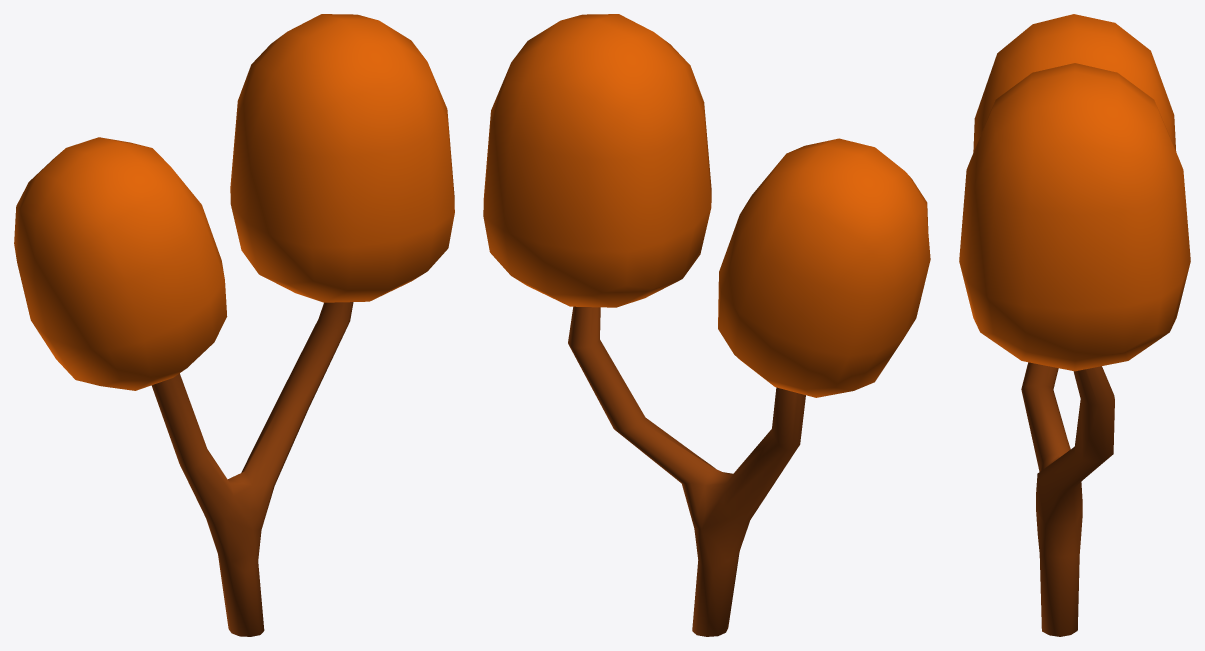
File: Tree_27_Fall.fbx
3 views of the same model, side by side, from view 1: azimuth 30°, elevation 25°; view 2: azimuth 150°, elevation 25°; view 3: azimuth 270°, elevation 25° (orthographic). The views are drawn at different scales.
Parts seen in each view (by area): view 1: Tree_27_p2_Fall, Tree_27_p1_Fall; view 2: Tree_27_p2_Fall, Tree_27_p1_Fall; view 3: Tree_27_p2_Fall, Tree_27_p1_Fall.
Part boxes in pixels (x1,y1,x2,y2): Tree_27_p2_Fall: [14, 14, 454, 390]; Tree_27_p1_Fall: [151, 302, 353, 636]; Tree_27_p2_Fall: [483, 14, 930, 397]; Tree_27_p1_Fall: [568, 306, 805, 636]; Tree_27_p2_Fall: [959, 14, 1190, 371]; Tree_27_p1_Fall: [1021, 362, 1114, 636].
Bounding box in the file's own units: 415 × 564 × 194.
